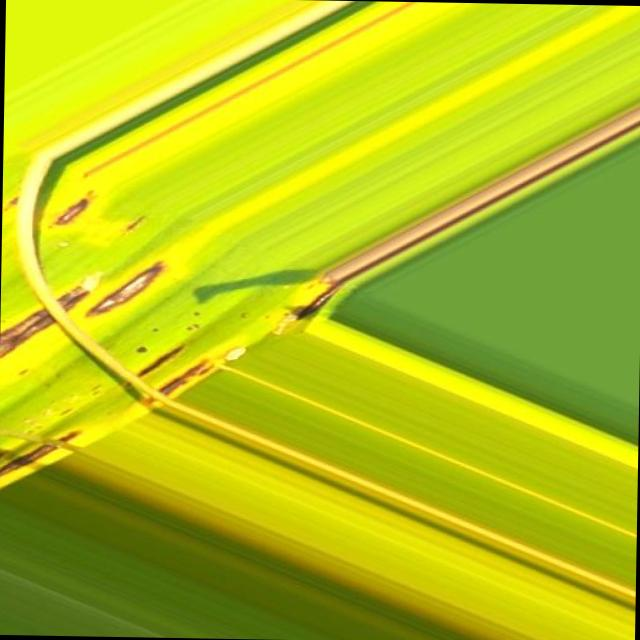Banana_Yellow_Sigatoka: (3, 159, 225, 482)
